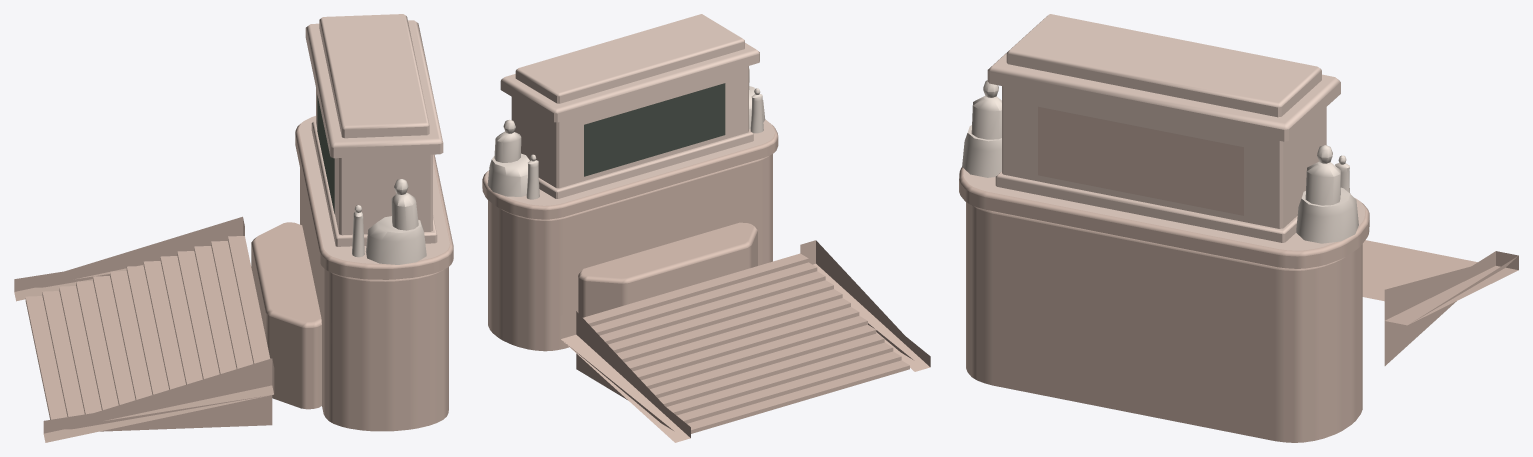
3 renders of one model, left to right at view 1: azimuth 30°, elevation 25°; view 2: azimuth 150°, elevation 25°; view 3: azimuth 270°, elevation 25°, orthographic. The views are drawn at different scales.
Visible parts, largest first — view 1: firemens-memorial; view 2: firemens-memorial; view 3: firemens-memorial.
Boxes of the visible parts, box(x1,y1,x2,y2) form: firemens-memorial: box(14, 14, 453, 442); firemens-memorial: box(482, 14, 930, 442); firemens-memorial: box(959, 14, 1518, 442).
Bounding box in the file's own units: 16.32 × 10 × 15.5.
